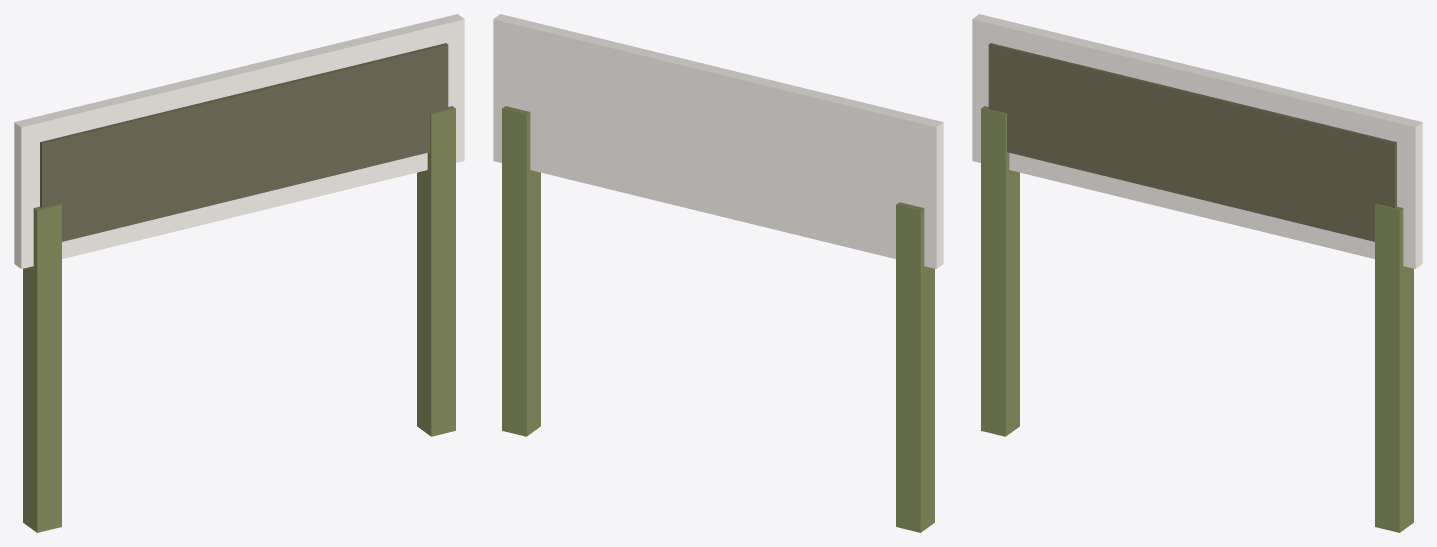
File: SM_KitSueltas_v2_LOD1.fbx
The picture shows the model from 3 angles, left to right: view 1: azimuth 30°, elevation 25°; view 2: azimuth 150°, elevation 25°; view 3: azimuth 330°, elevation 25°; orthographic projection.
Visible parts, largest first — view 1: SM_bloques.kit_sueltas_v2_LOD1; view 2: SM_bloques.kit_sueltas_v2_LOD1; view 3: SM_bloques.kit_sueltas_v2_LOD1.
Boxes of the visible parts, x1,y1,x2,y2 form: SM_bloques.kit_sueltas_v2_LOD1: (14,14,464,532); SM_bloques.kit_sueltas_v2_LOD1: (493,14,943,532); SM_bloques.kit_sueltas_v2_LOD1: (972,14,1422,532).
Size of the model in its own units: 3.6 by 3.15 by 0.2.
